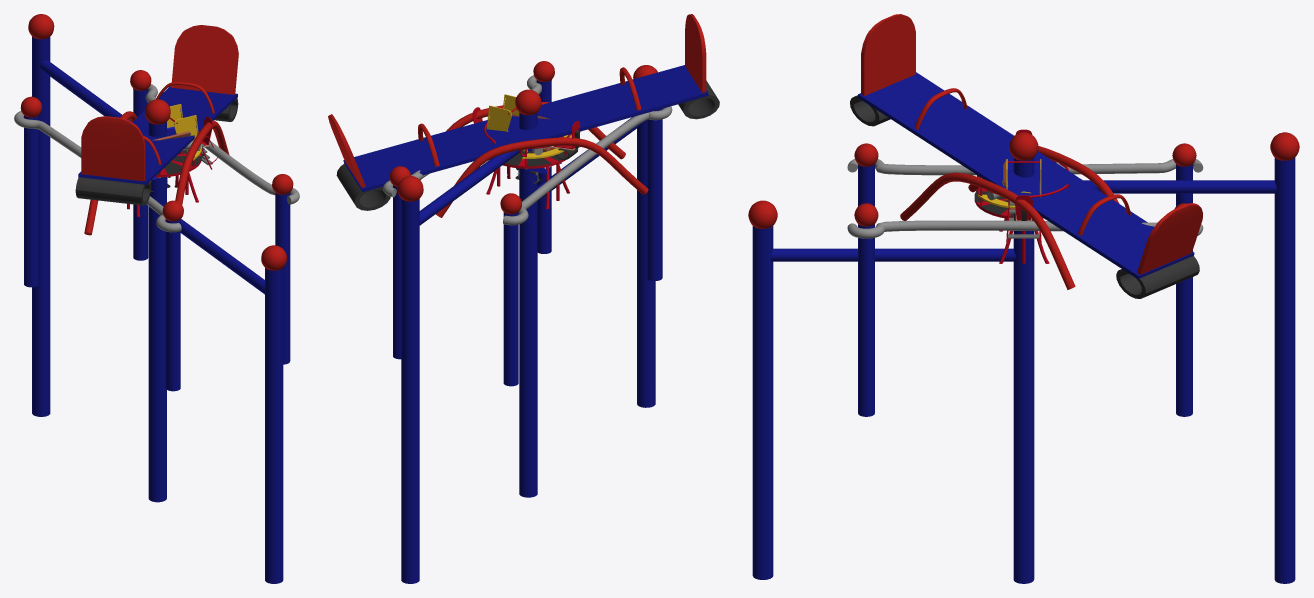
File: Playground.fbx
3 views of the same model, side by side, from view 1: azimuth 30°, elevation 25°; view 2: azimuth 150°, elevation 25°; view 3: azimuth 270°, elevation 25° (orthographic). The views are drawn at different scales.
Parts seen in each view (by area): view 1: Турник, Брузья, Куб.004, Куб.003, Куб.002, Цилиндр.004, Качели, Куб.009, Карусель; view 2: Турник, Брузья, Куб.002, Качели, Куб.003, Цилиндр.003, Цилиндр.004, Куб.009, Куб.004, Карусель; view 3: Турник, Куб.002, Брузья, Куб.003, Качели, Куб.004, Цилиндр.003.
Boxes of the visible parts, x1=… form: Турник: x1=28, y1=14, x2=286, y2=583; Брузья: x1=14, y1=70, x2=299, y2=391; Куб.004: x1=171, y1=25, x2=238, y2=94; Куб.003: x1=81, y1=116, x2=145, y2=181; Куб.002: x1=78, y1=86, x2=237, y2=185; Цилиндр.004: x1=75, y1=177, x2=151, y2=205; Качели: x1=84, y1=111, x2=229, y2=235; Куб.009: x1=167, y1=104, x2=198, y2=141; Карусель: x1=155, y1=150, x2=201, y2=177; Турник: x1=397, y1=65, x2=657, y2=583; Брузья: x1=383, y1=61, x2=672, y2=386; Куб.002: x1=343, y1=65, x2=708, y2=192; Качели: x1=420, y1=102, x2=648, y2=217; Куб.003: x1=685, y1=14, x2=706, y2=92; Цилиндр.003: x1=336, y1=163, x2=390, y2=210; Цилиндр.004: x1=678, y1=80, x2=719, y2=119; Куб.009: x1=486, y1=94, x2=519, y2=131; Куб.004: x1=328, y1=114, x2=365, y2=187; Карусель: x1=503, y1=136, x2=565, y2=168; Турник: x1=748, y1=132, x2=1299, y2=583; Куб.002: x1=857, y1=72, x2=1194, y2=279; Брузья: x1=847, y1=143, x2=1203, y2=416; Куб.003: x1=861, y1=14, x2=915, y2=95; Качели: x1=900, y1=146, x2=1119, y2=289; Куб.004: x1=1137, y1=203, x2=1202, y2=274; Цилиндр.003: x1=1116, y1=256, x2=1199, y2=298.
Bounding box in the file's own units: 491 × 771 × 764.
